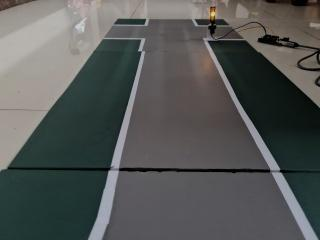yellow: (204, 3, 223, 26)
